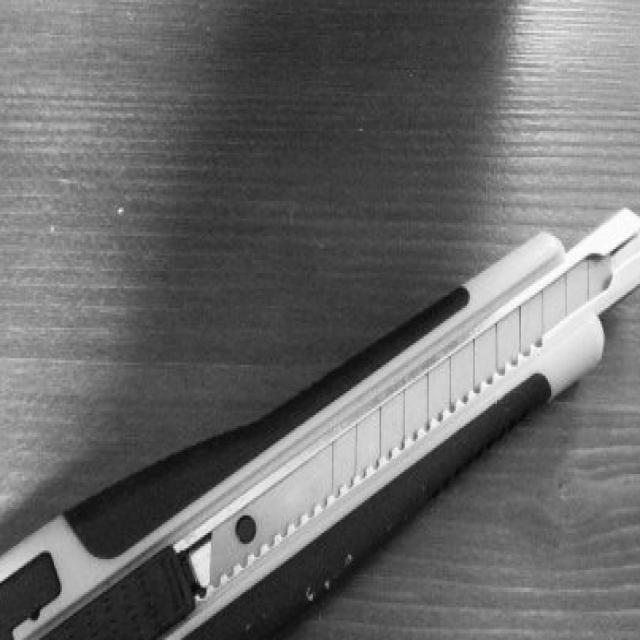estilete: (0, 208, 640, 640)
